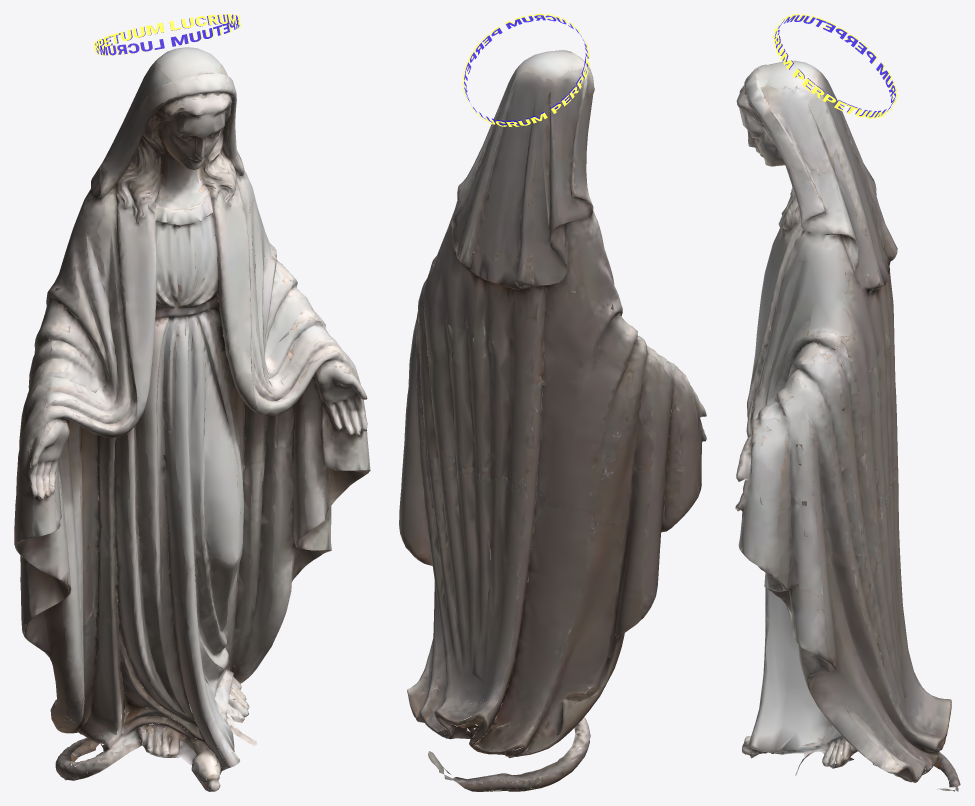
The model's file is CyberpunkMaryRedDiamondHeart.glb.
3 views of the same model, side by side, from view 1: azimuth 30°, elevation 25°; view 2: azimuth 150°, elevation 25°; view 3: azimuth 270°, elevation 25° (orthographic). The views are drawn at different scales.
Visible parts, largest first — view 1: statue, HaloText1, HaloText2; view 2: statue, HaloText1, HaloText2; view 3: statue, HaloText1, HaloText2.
Boxes of the visible parts, <box> form: statue: <box>14,47,370,791</box>; HaloText1: <box>93,14,240,55</box>; HaloText2: <box>95,14,239,55</box>; statue: <box>399,50,706,791</box>; HaloText1: <box>462,14,589,126</box>; HaloText2: <box>464,15,588,125</box>; statue: <box>735,60,960,791</box>; HaloText1: <box>773,14,897,118</box>; HaloText2: <box>774,15,895,117</box>.
Size of the model in its own units: 0.4211 by 0.9633 by 0.2588.
5 materials, 2 textured.
